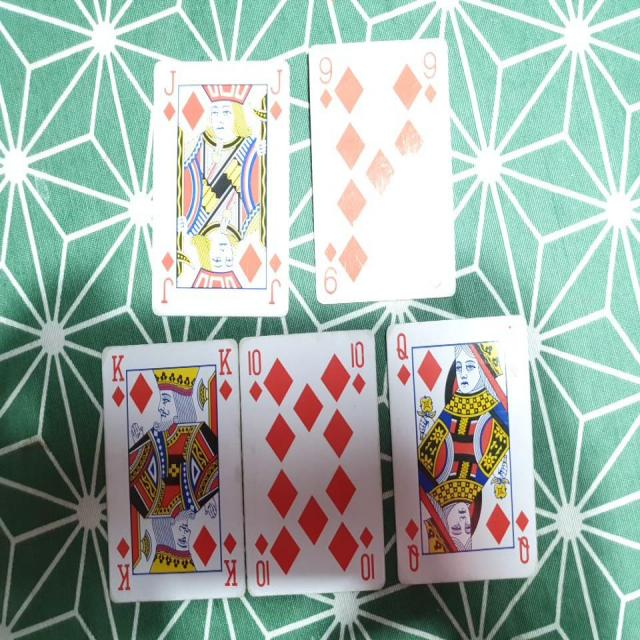10 Diamonds: (239, 326, 390, 595)
9 Diamonds: (307, 36, 458, 305)
J Diamonds: (151, 56, 292, 320)
K Diamonds: (101, 337, 247, 603)
Q Diamonds: (385, 311, 540, 582)
